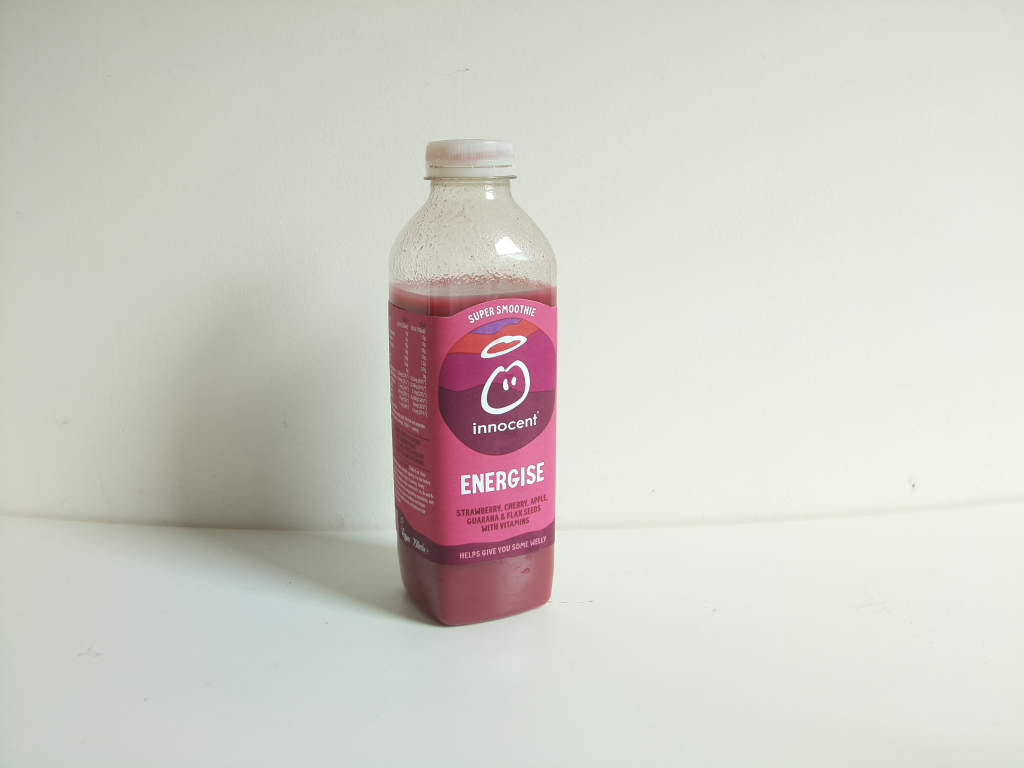juice: (384, 133, 561, 635)
